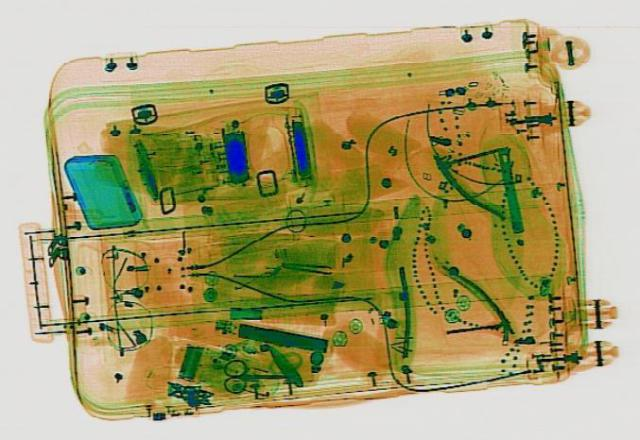Scissors: (220, 356, 288, 391)
